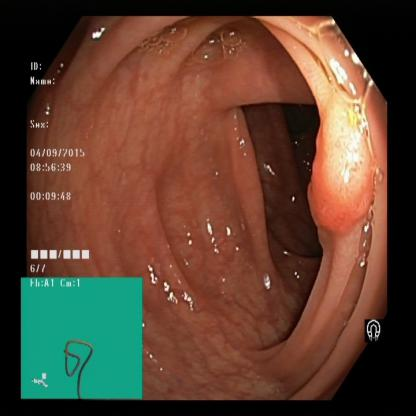Labels: (22, 278, 145, 400), (28, 58, 95, 277), (356, 316, 390, 352)
Polyps: (307, 95, 374, 237)
